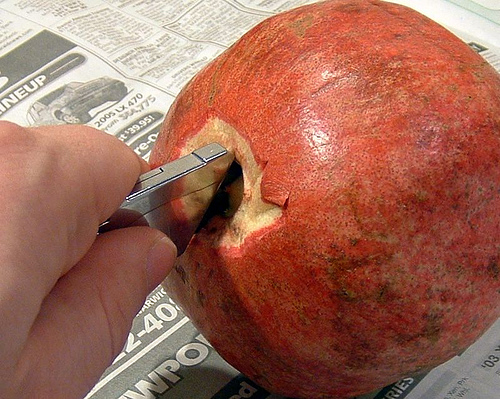pomogranate: (137, 0, 499, 398)
